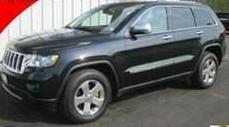front_view: (0, 44, 66, 102)
headlight: (25, 54, 61, 69)
side_glass: (122, 4, 218, 37)
